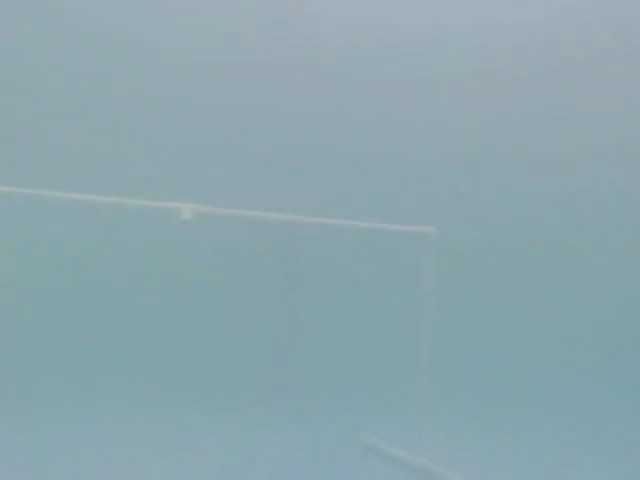gate: (3, 182, 472, 480)
